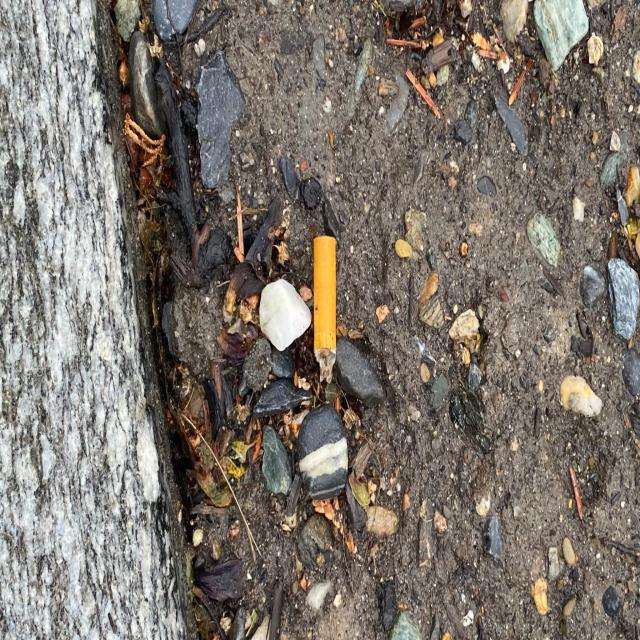other waste: (312, 234, 337, 386)
